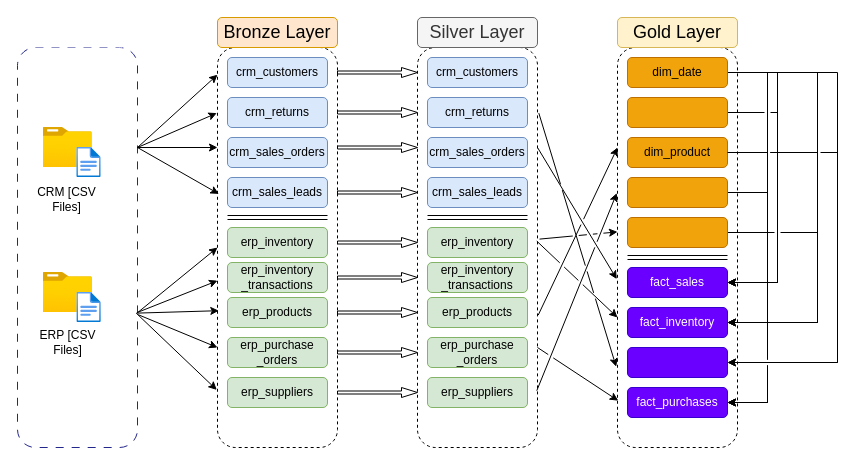
The diagram is 863 pixels wide and 465 high, and some of its shapes have lost their labels. The box of each missing label's shape, as (x1, y1, x2, y2) in pixels:
dim_customers: (626, 96, 728, 128)
dim_supplier: (626, 176, 728, 208)
dim_warehouse: (626, 216, 728, 248)
fact_returns: (626, 346, 728, 378)
Sources: (32, 27, 122, 47)
